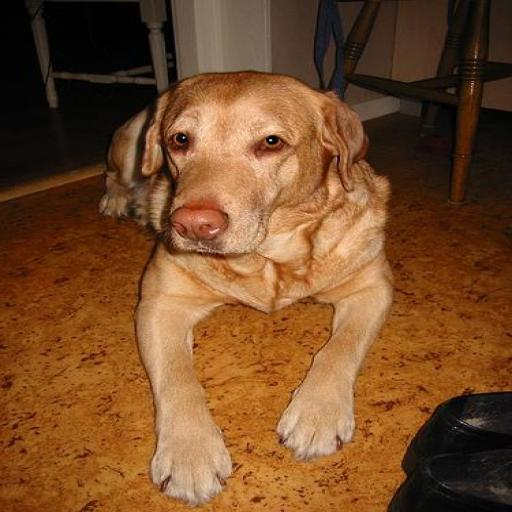dog_face: (131, 70, 363, 253)
